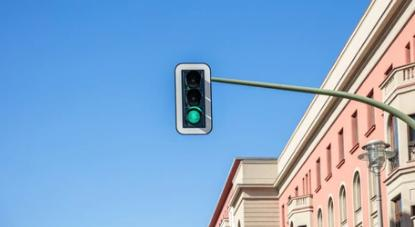green_light: (174, 63, 213, 135)
